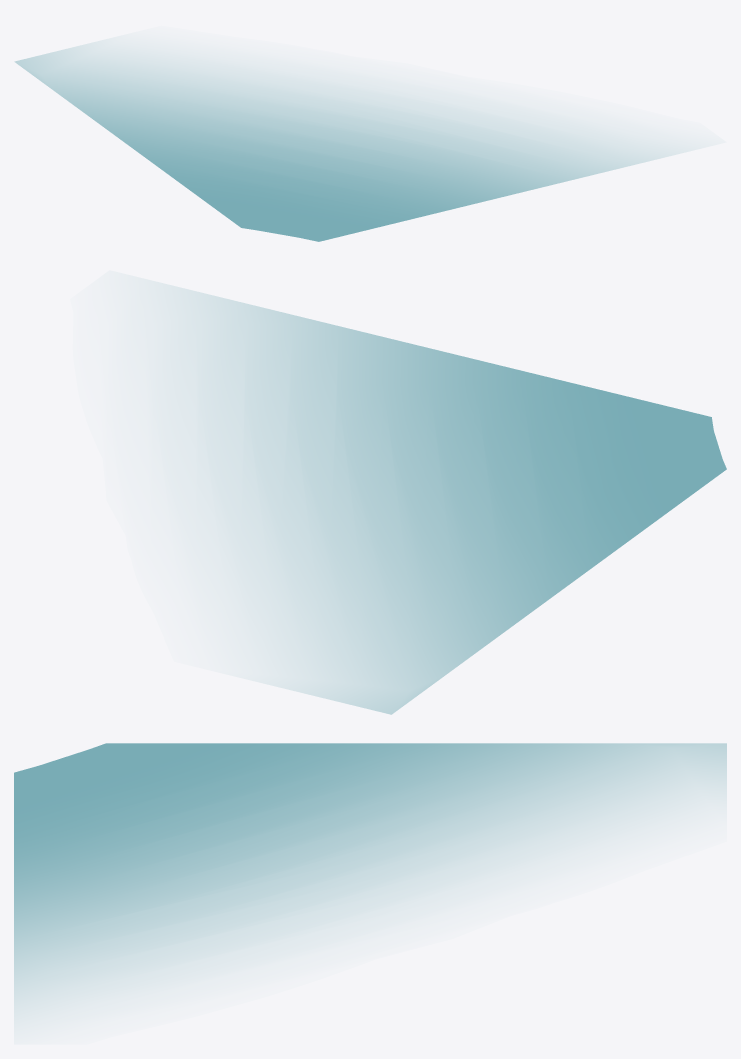
3 views of the same model, one above another, from view 1: azimuth 30°, elevation 25°; view 2: azimuth 150°, elevation 25°; view 3: azimuth 270°, elevation 25° (orthographic). The views are drawn at different scales.
Visible parts, largest first — view 1: city; view 2: city; view 3: city.
Boxes of the visible parts, bbox=[...] form: city: bbox=[14, 40, 691, 241]; city: bbox=[158, 282, 726, 714]; city: bbox=[14, 743, 726, 1022].
Bounding box in the file's own units: 500 × 0 × 500.
